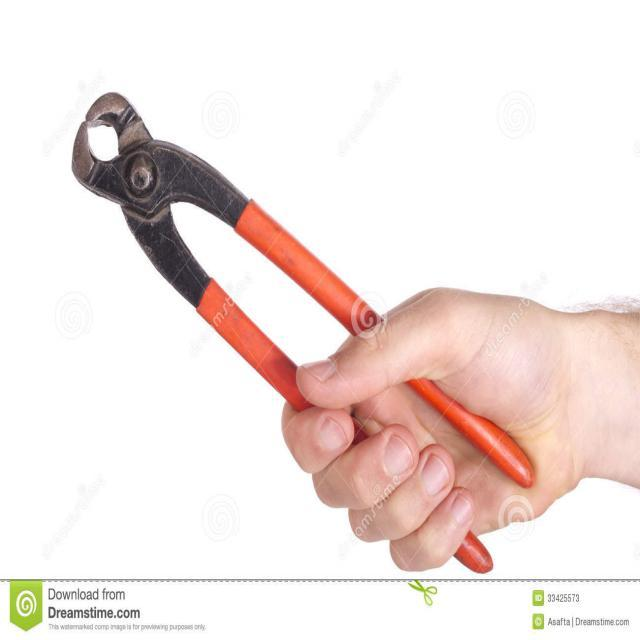pliers: (65, 85, 540, 578)
